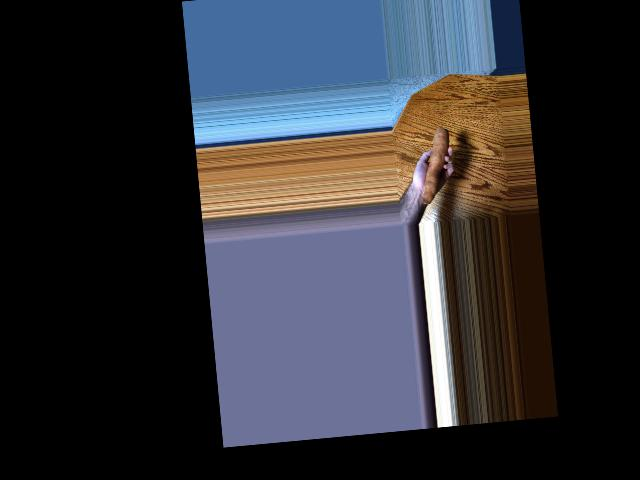sweet_potato: (419, 115, 458, 195)
